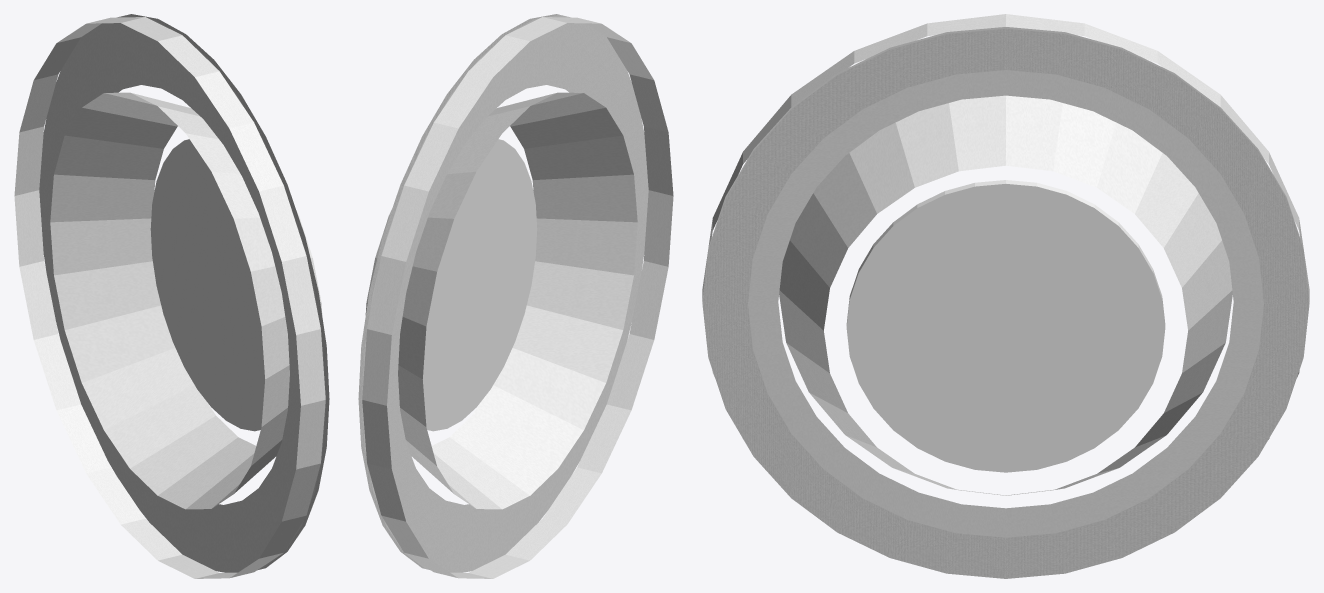
File: trimlesspotlight.obj
The picture shows the model from 3 angles, left to right: view 1: azimuth 30°, elevation 25°; view 2: azimuth 150°, elevation 25°; view 3: azimuth 270°, elevation 25°; orthographic projection. The views are drawn at different scales.
Parts seen in each view (by area): view 1: Base, Metal, Light0, Trim; view 2: Base, Metal, Light0, Trim; view 3: Light0, Trim, Base, Metal.
Part boxes in pixels (bbox=[...]): Base: bbox=[14, 15, 325, 578]; Metal: bbox=[50, 92, 322, 509]; Light0: bbox=[150, 139, 265, 431]; Trim: bbox=[128, 14, 329, 568]; Base: bbox=[362, 15, 673, 578]; Metal: bbox=[365, 92, 637, 509]; Light0: bbox=[422, 139, 537, 431]; Trim: bbox=[358, 14, 559, 568]; Light0: bbox=[846, 180, 1165, 472]; Trim: bbox=[702, 28, 1309, 578]; Base: bbox=[702, 14, 1309, 537]; Metal: bbox=[779, 95, 1232, 495].
Size of the model in its own units: 0.065 by 0.4 by 0.4.
